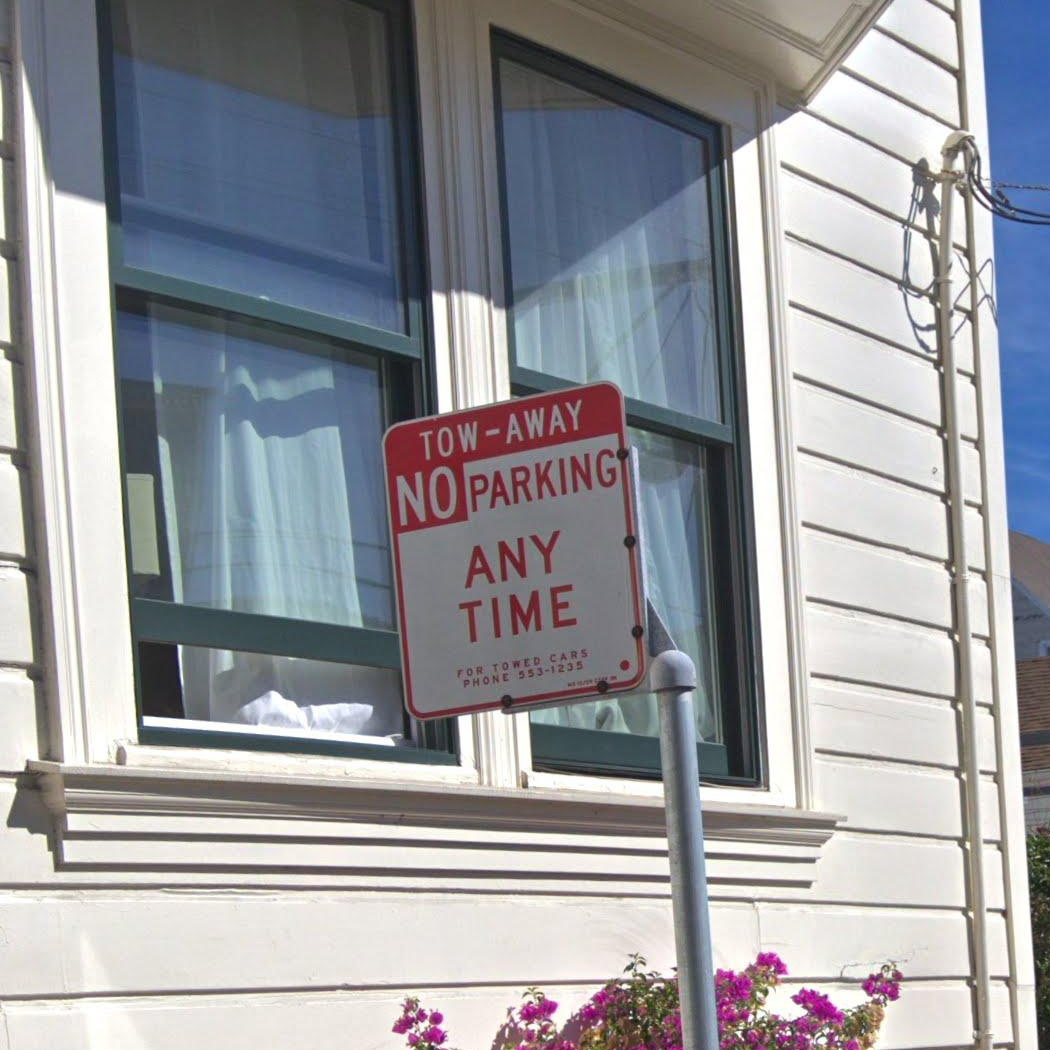No Parking Anytime: (379, 379, 647, 720)
